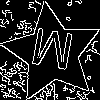M: (27, 27, 76, 80)
